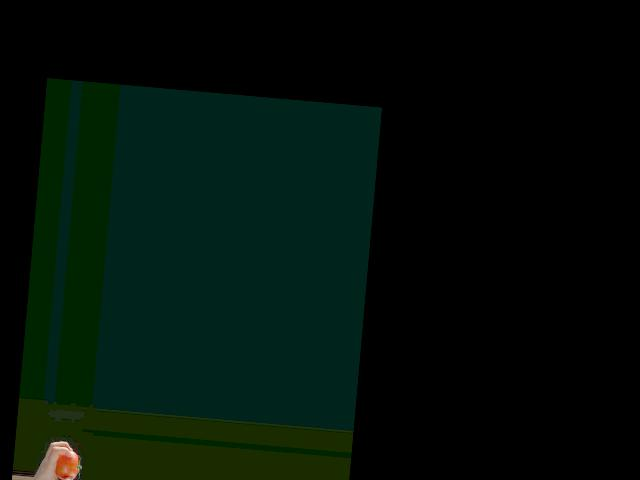tomato: (55, 450, 82, 480)
